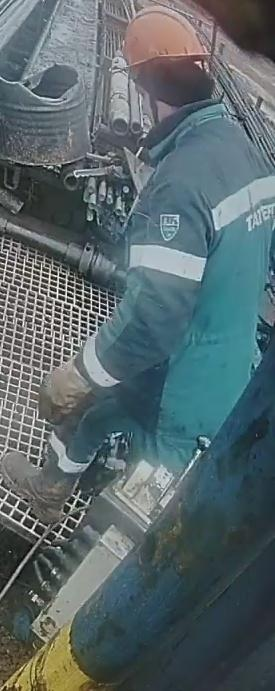gloves: (35, 347, 107, 436)
helmet: (107, 4, 215, 75)
vest: (95, 105, 274, 449)
